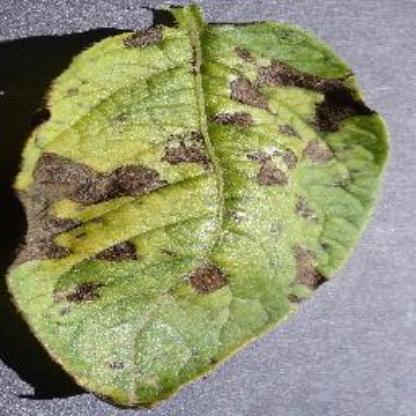Early-Blight: (0, 3, 390, 410)
